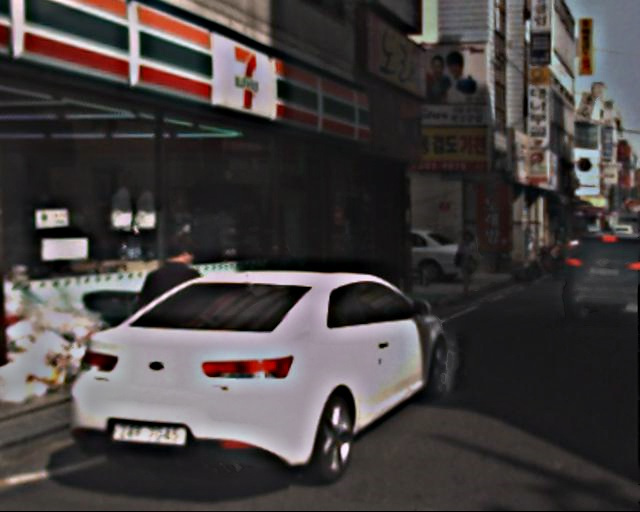person: (146, 233, 205, 377), (453, 229, 494, 299)
